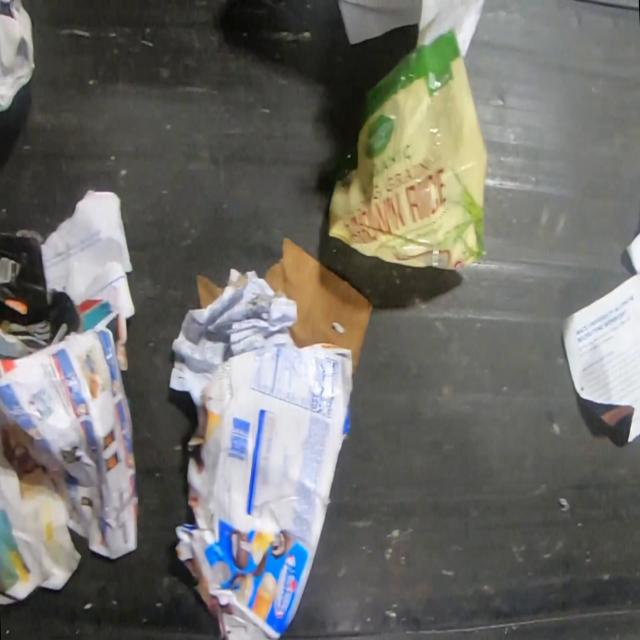cardboard: (174, 341, 353, 640), (265, 239, 374, 375)
soft_plastic: (327, 26, 490, 274)
